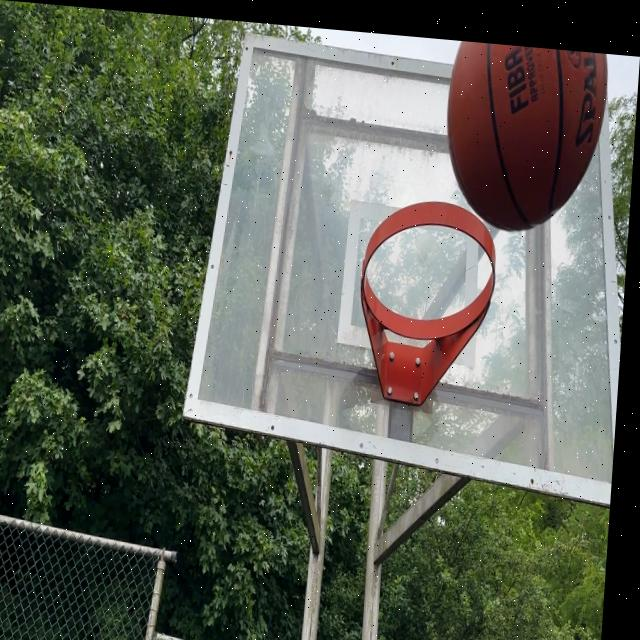Basketball: (446, 41, 612, 234)
